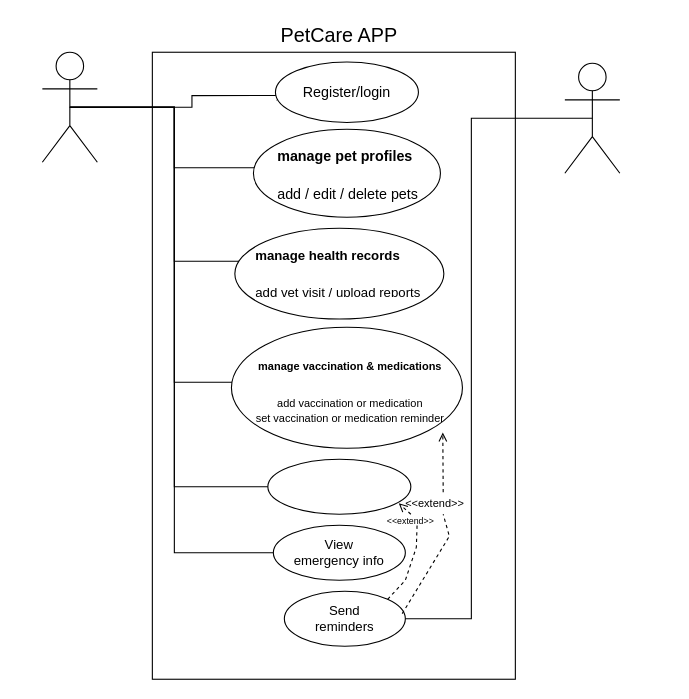
Some shapes in this 689 by 699 pixel diagram are drawn without their labels. Here are the shapes that lost their labels. From the top down, the centre of each, then its label:
At [69,106]: "User (Pet Owner)".
At [592,117]: "System (reminder service)".
At [339,486]: "Track routine & Feeding".
